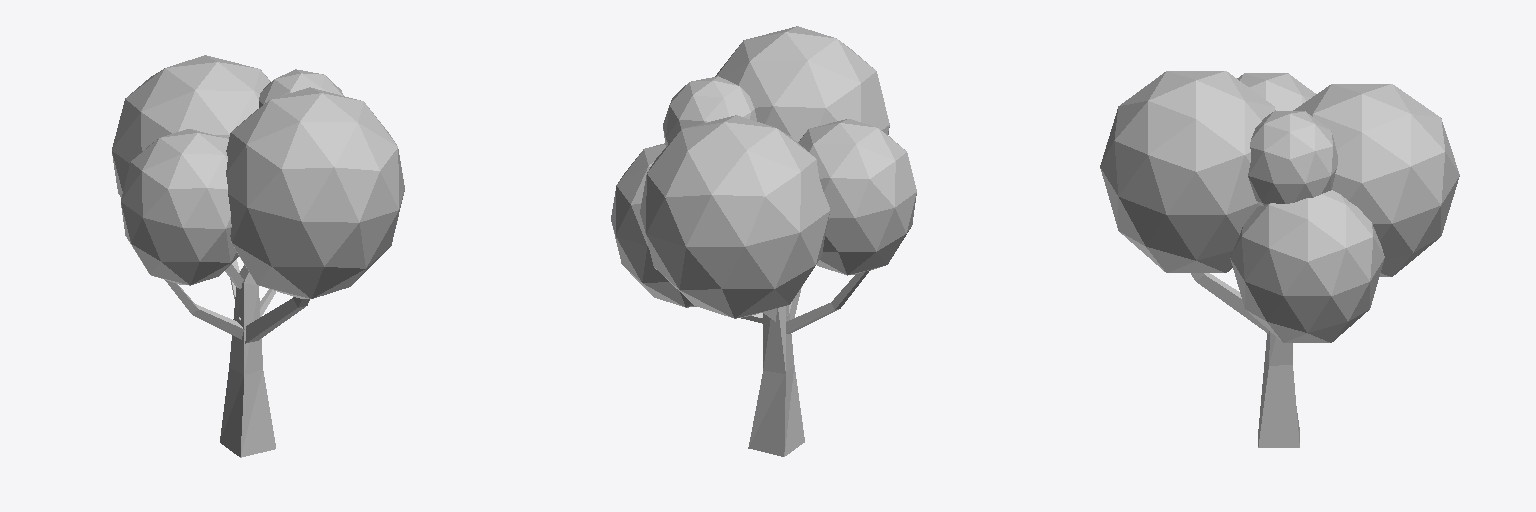
The model's file is BU_trees_published_003.obj.
3 renders of one model, left to right at view 1: azimuth 30°, elevation 25°; view 2: azimuth 150°, elevation 25°; view 3: azimuth 270°, elevation 25°, orthographic.
Parts seen in each view (by area): view 1: Tree_003_GEO; view 2: Tree_003_GEO; view 3: Tree_003_GEO.
Part boxes in pixels (left/top/right/bottom): Tree_003_GEO: left=112, top=55, right=404, bottom=457; Tree_003_GEO: left=611, top=26, right=916, bottom=456; Tree_003_GEO: left=1100, top=71, right=1459, bottom=447.
Bounding box in the file's own units: 3.4 × 4.63 × 4.03.